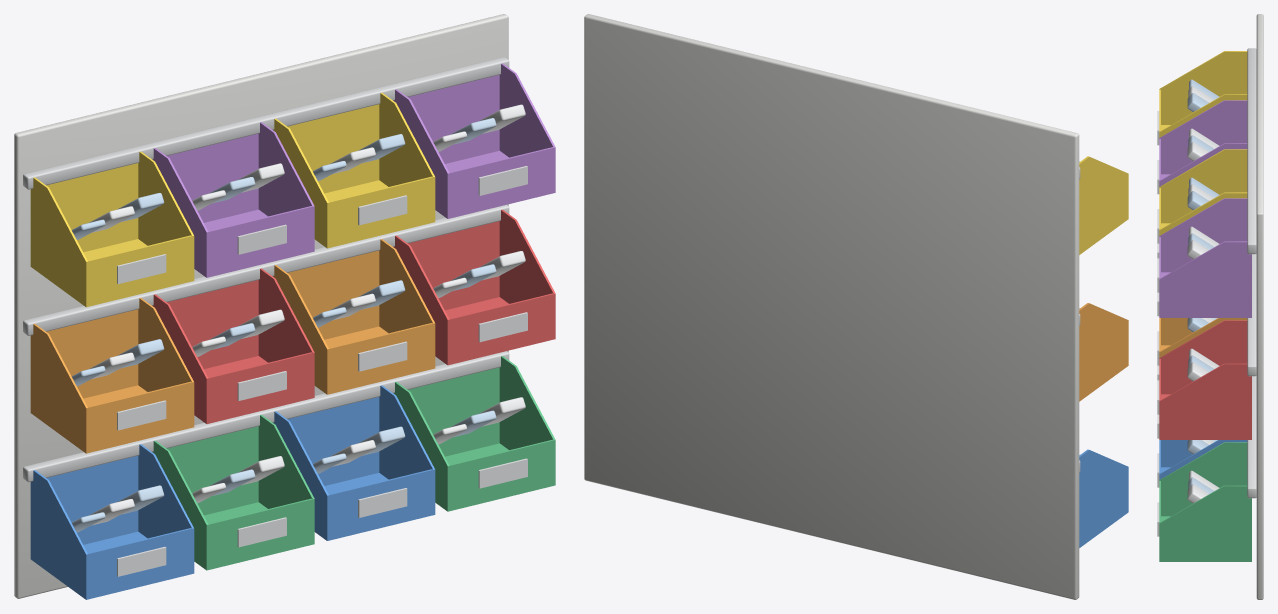
The model's file is etagere_bacs.glb.
The picture shows the model from 3 angles, left to right: view 1: azimuth 30°, elevation 25°; view 2: azimuth 150°, elevation 25°; view 3: azimuth 270°, elevation 25°; orthographic projection. The views are drawn at different scales.
Visible parts, largest first — view 1: etagere_bacs; view 2: etagere_bacs; view 3: etagere_bacs.
Boxes of the visible parts, x1,y1,x2,y2 form: etagere_bacs: [14, 14, 555, 599]; etagere_bacs: [584, 14, 1128, 599]; etagere_bacs: [1157, 14, 1263, 599].
Size of the model in its own units: 1.02 by 0.92 by 0.229.
